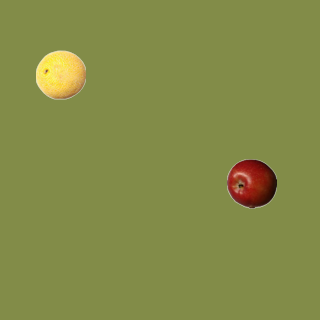Apple Braeburn: (226, 158, 276, 208)
Cantaloupe 1: (35, 49, 85, 99)
